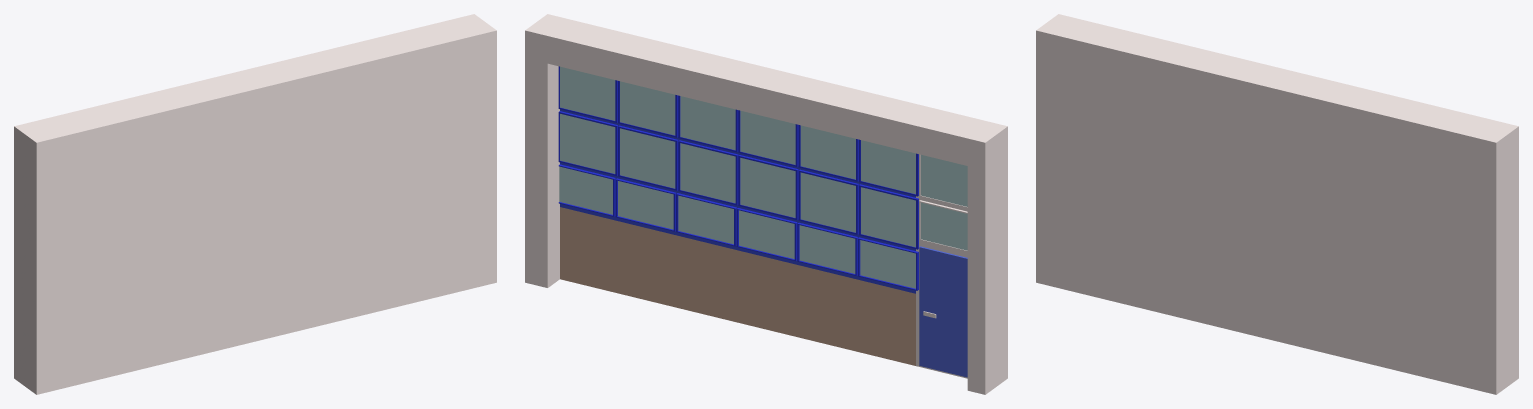
File: wall door.fbx
The picture shows the model from 3 angles, left to right: view 1: azimuth 30°, elevation 25°; view 2: azimuth 150°, elevation 25°; view 3: azimuth 330°, elevation 25°; orthographic projection.
Visible parts, largest first — view 1: Cube.002; view 2: Cube.002; view 3: Cube.002.
Boxes of the visible parts, x1=… form: Cube.002: x1=14, y1=14, x2=496, y2=394; Cube.002: x1=525, y1=14, x2=1007, y2=394; Cube.002: x1=1036, y1=14, x2=1518, y2=394.
Bounding box in the file's own units: 2010 × 1052 × 170.
